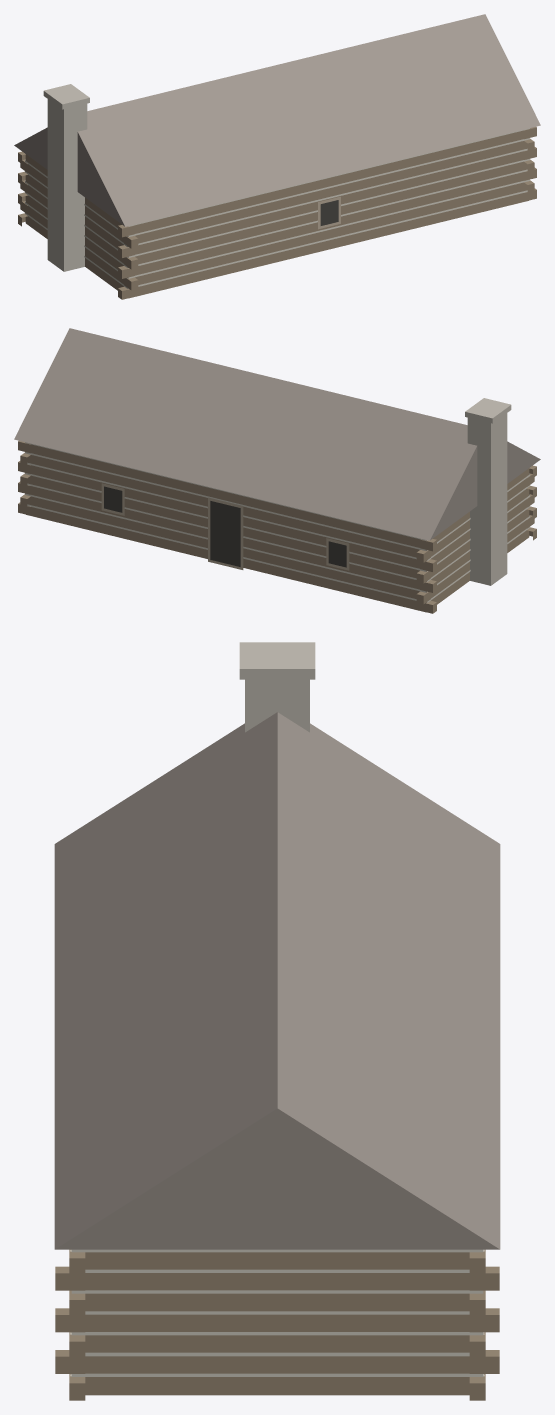
Rendered from hogan_store__log_1831.glb.
The picture shows the model from 3 angles, top to bottom: view 1: azimuth 30°, elevation 25°; view 2: azimuth 150°, elevation 25°; view 3: azimuth 270°, elevation 25°; orthographic projection. The views are drawn at different scales.
Visible parts, largest first — view 1: hogan_store__log_1831; view 2: hogan_store__log_1831; view 3: hogan_store__log_1831.
Part boxes in pixels (x1=…): hogan_store__log_1831: x1=14, y1=14, x2=540, y2=299; hogan_store__log_1831: x1=14, y1=328, x2=540, y2=613; hogan_store__log_1831: x1=54, y1=642, x2=500, y2=1400.
Size of the model in its own units: 14.79 by 5.59 by 6.6.
